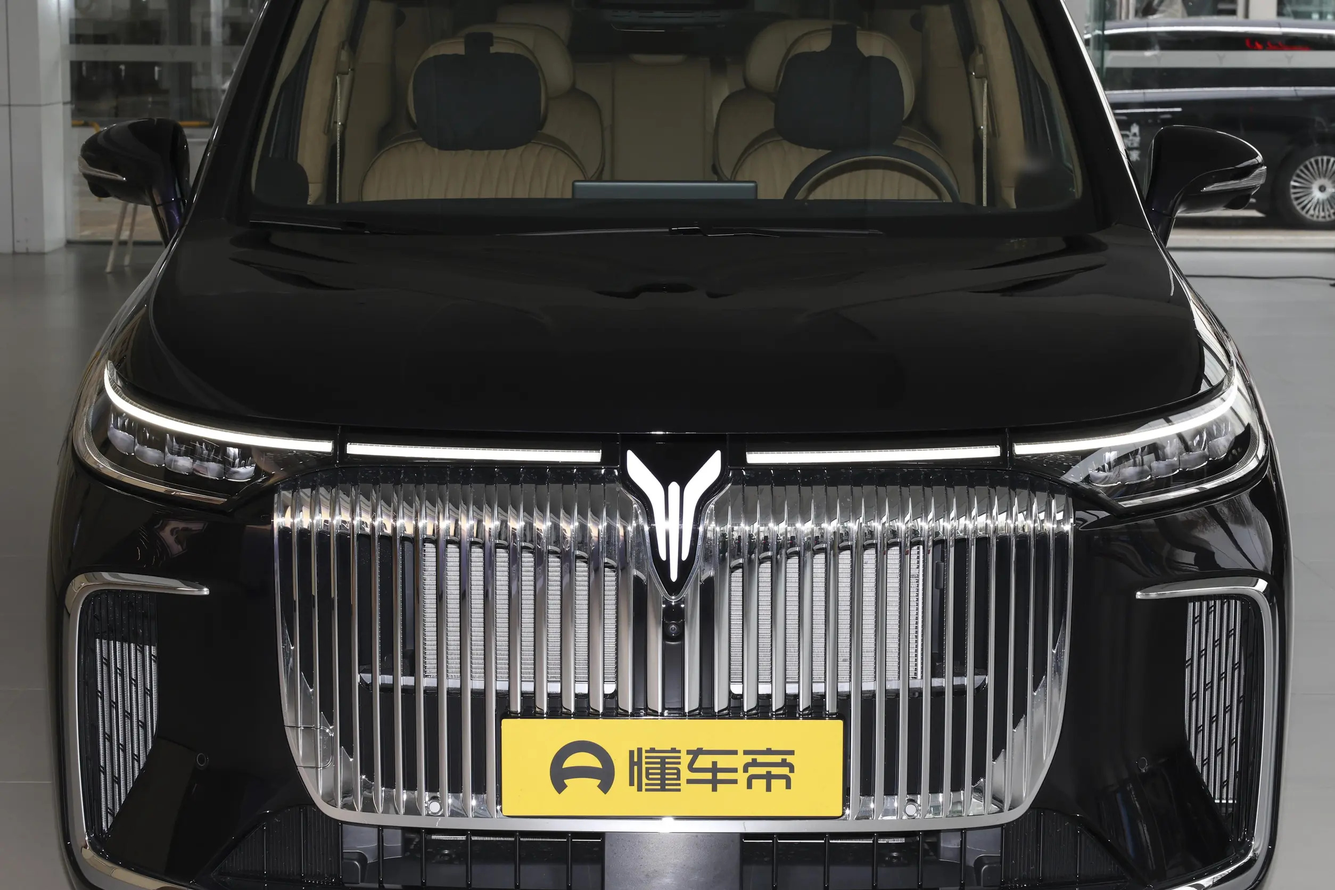VOYAH: (627, 450, 720, 582)
